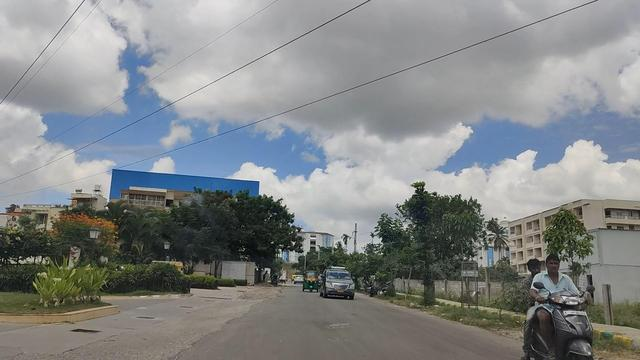RoadDamages: (33, 325, 132, 360), (203, 297, 267, 333), (312, 311, 364, 340), (159, 336, 213, 360)
